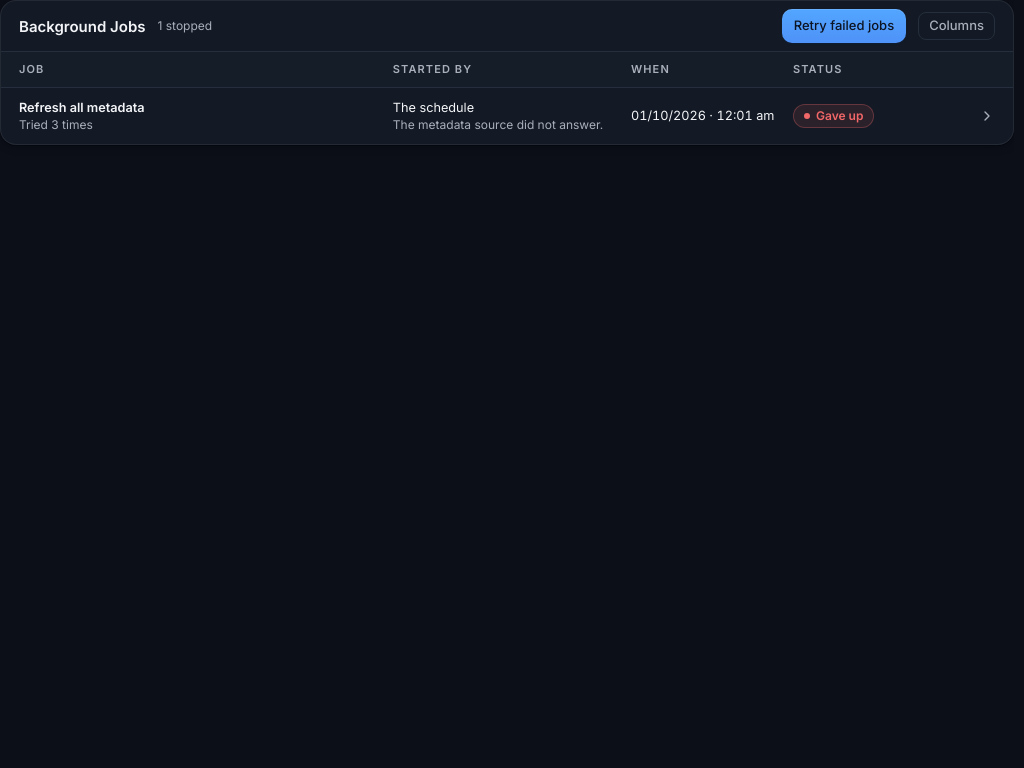
A job opened from the card › opens its drawer with the run's facts, why a dead-letter job failed in plain words and what was asked, and the chip says Gave up
Check: the text "Gave up" is shown, box [793, 104, 874, 128]
What coordinates should you click on to do the following:
click the text "Refresh all metadata"
I would click on:
 (82, 107)
Its box is [19, 100, 145, 115].
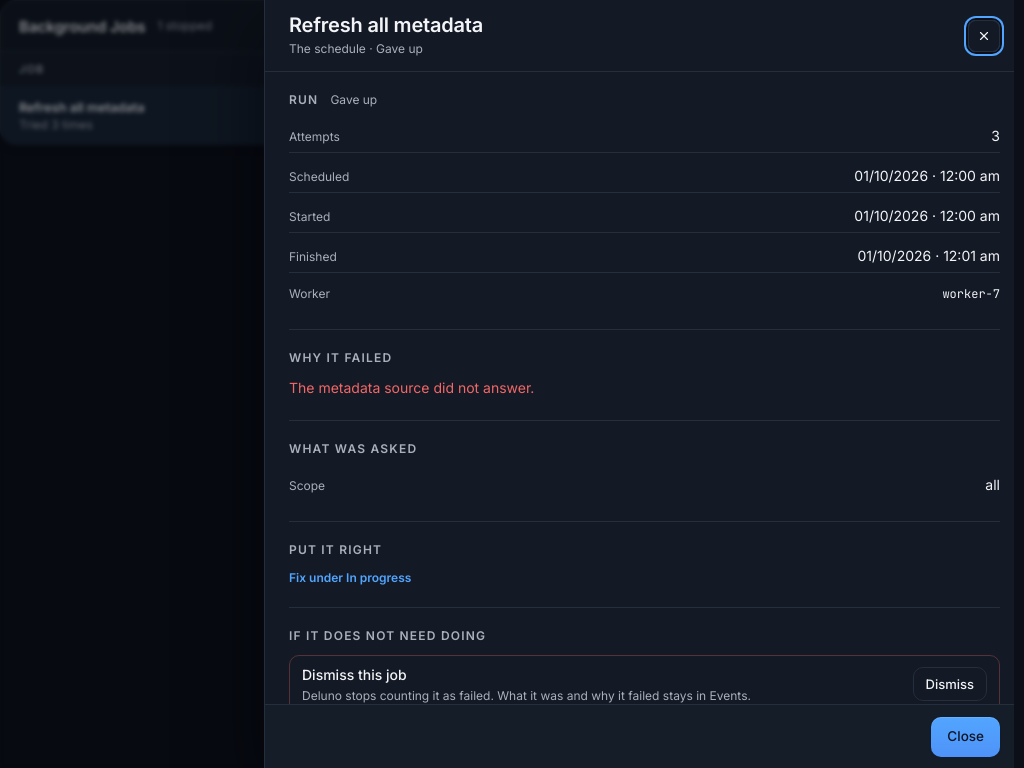
Check: the text "Attempts" is shown, box [289, 128, 340, 146]
Check: the text "Scheduled" is shown, box [289, 168, 349, 186]
Check: the text "Started" is shown, box [289, 208, 330, 226]
